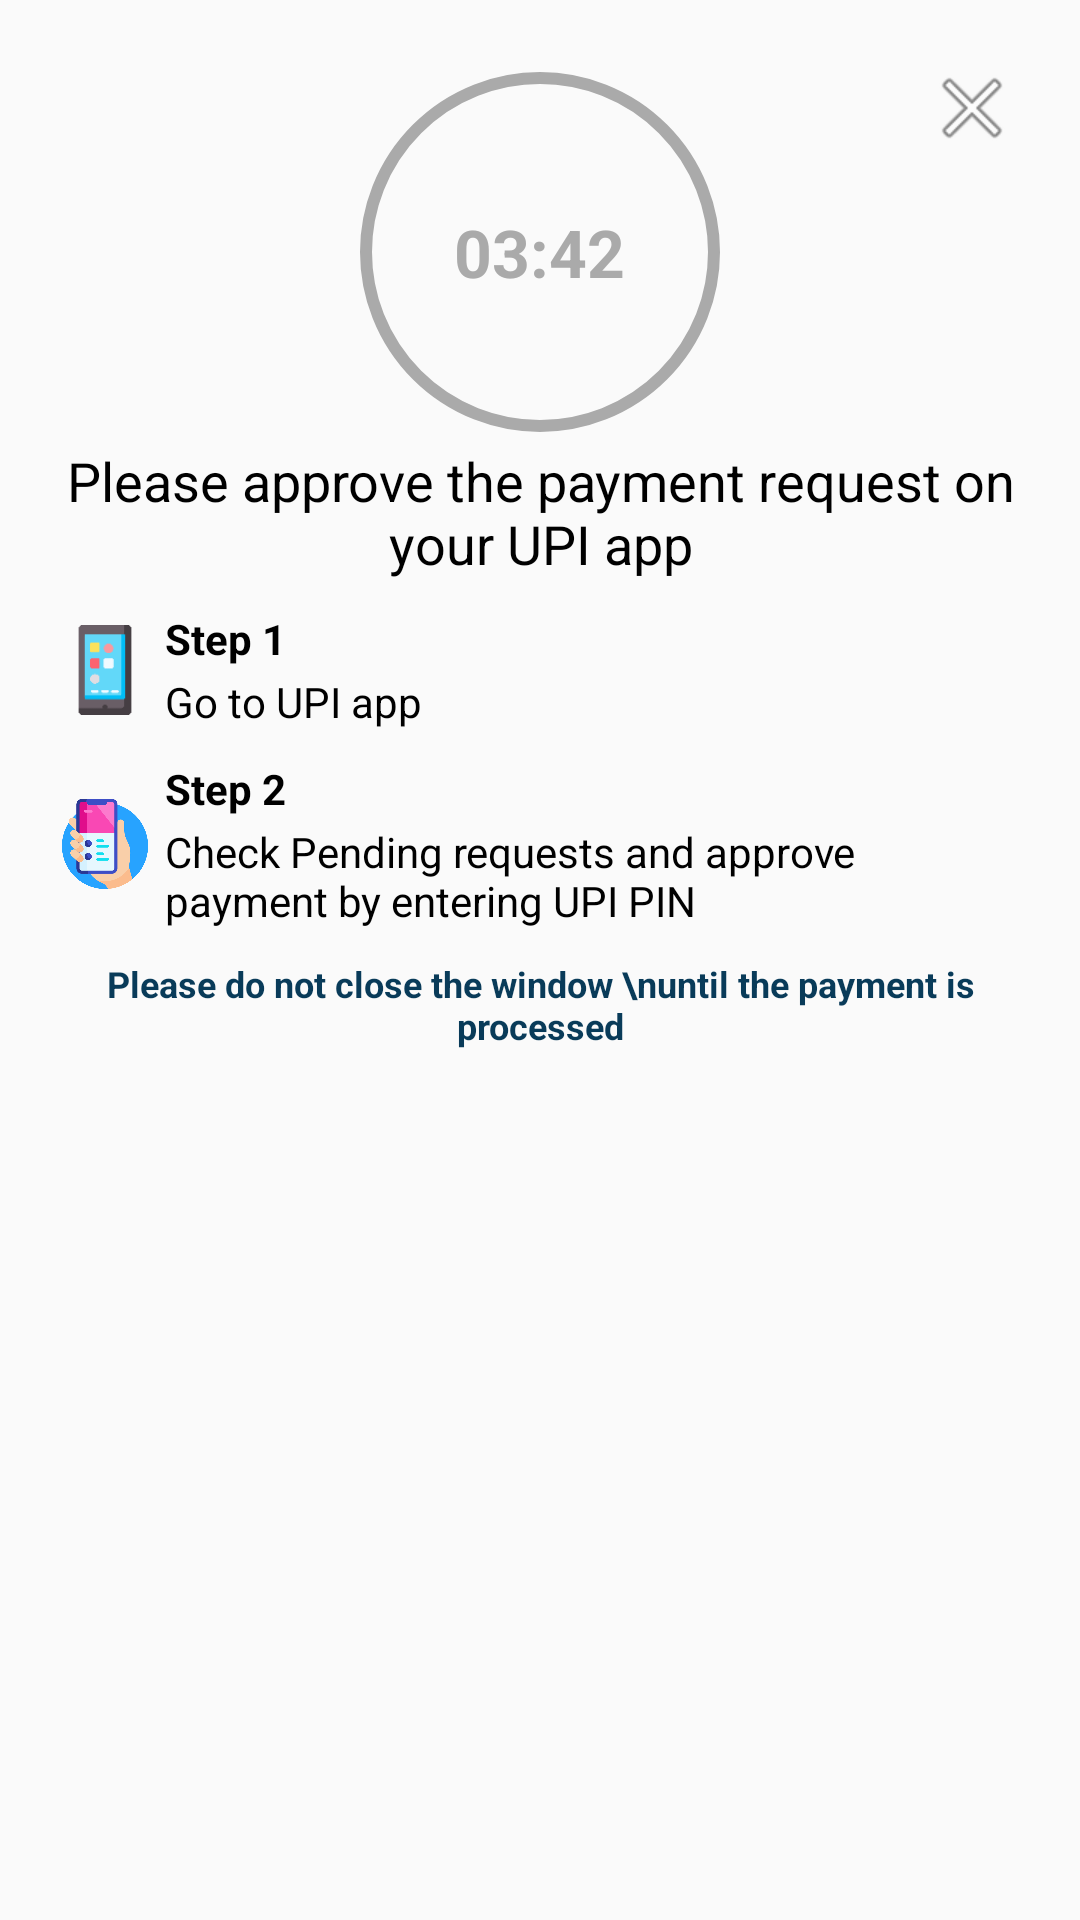

Named icons in this screenshot (1080 x 1920) and their bounding boxes, (x1, y1, x2, y2):
close clear cancel: (942, 78, 1002, 138)
smartphone: (78, 625, 132, 715)
smartphone with hand: (62, 799, 148, 889)
